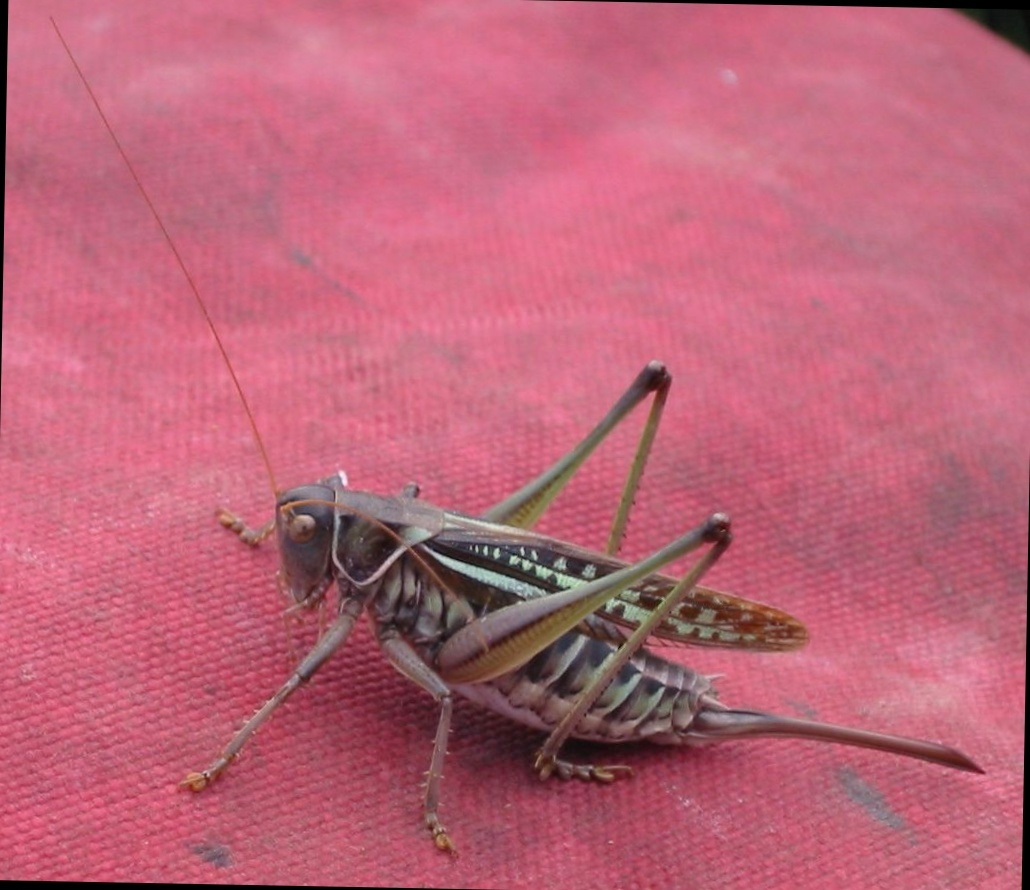Brown_hopper: (338, 460, 743, 764)
